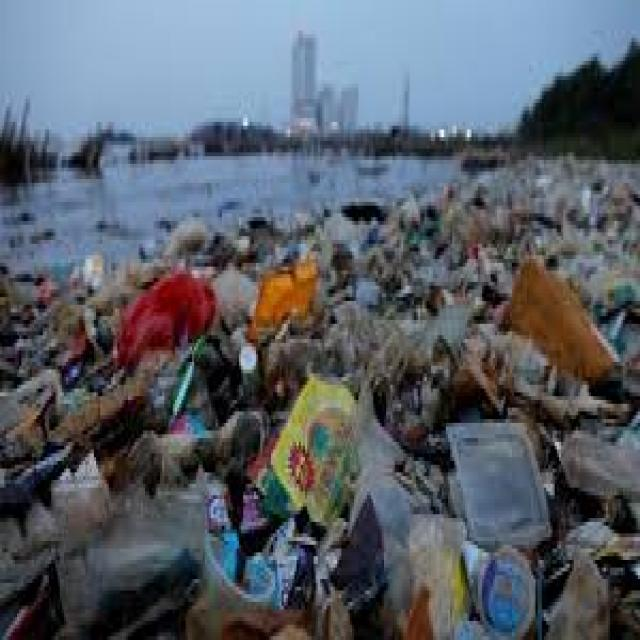plastic: (106, 245, 620, 630)
